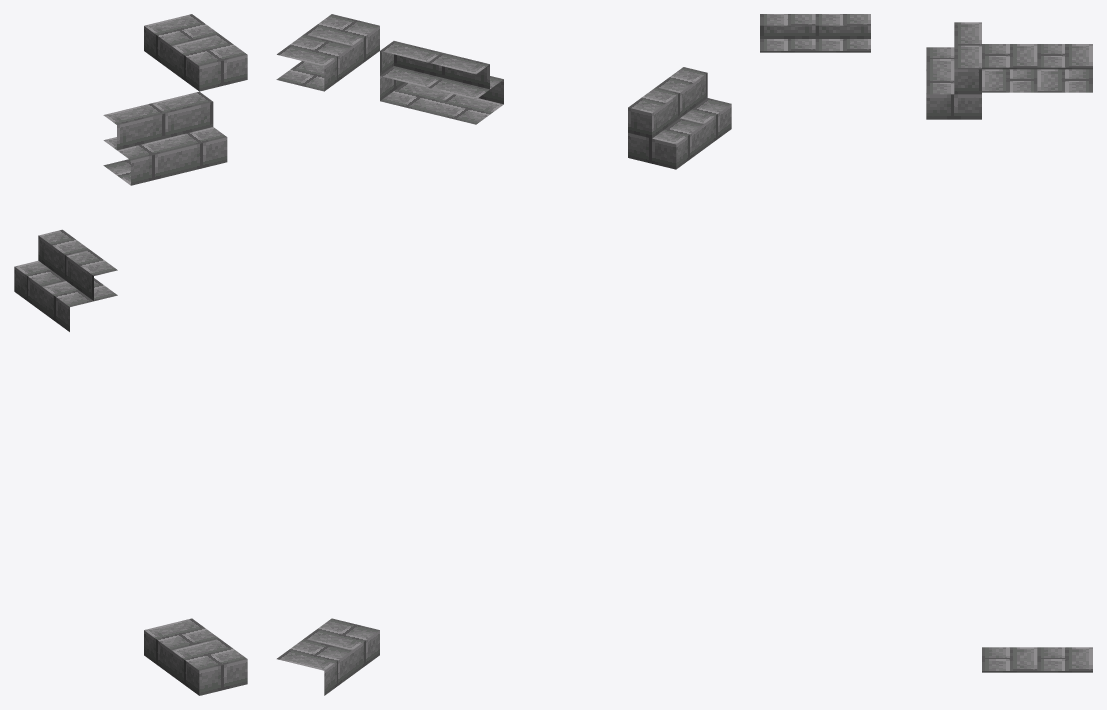
The model's file is Stone_Brick_Stairs_Chunk_1_21.fbx.
The picture shows the model from 3 angles, left to right: view 1: azimuth 30°, elevation 25°; view 2: azimuth 150°, elevation 25°; view 3: azimuth 270°, elevation 25°; orthographic projection.
Parts seen in each view (by area): view 1: Stone_Brick_Stairs_Chunk_1_21; view 2: Stone_Brick_Stairs_Chunk_1_21; view 3: Stone_Brick_Stairs_Chunk_1_21.
Boxes of the visible parts, x1,y1,x2,y2 form: Stone_Brick_Stairs_Chunk_1_21: (14,14,247,695); Stone_Brick_Stairs_Chunk_1_21: (276,14,731,695); Stone_Brick_Stairs_Chunk_1_21: (760,14,1092,672).
Size of the model in its own units: 600 by 1250 by 600.
Materials: 1 (1 with a texture image).
